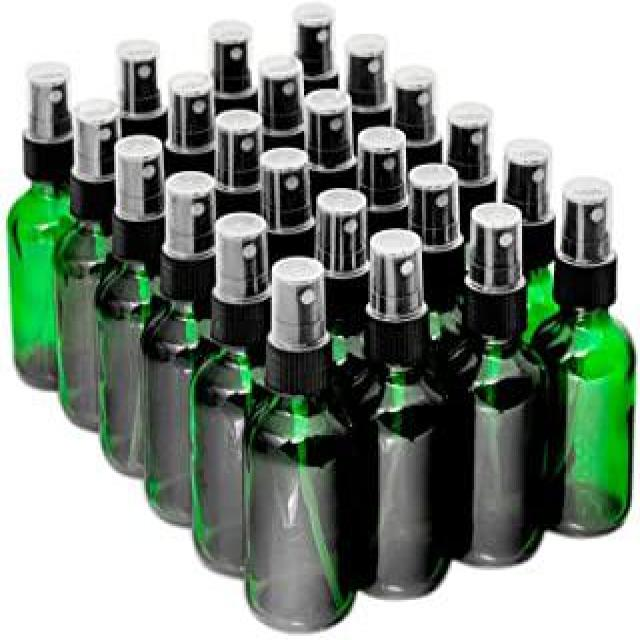non-organic waste: (242, 253, 362, 640)
